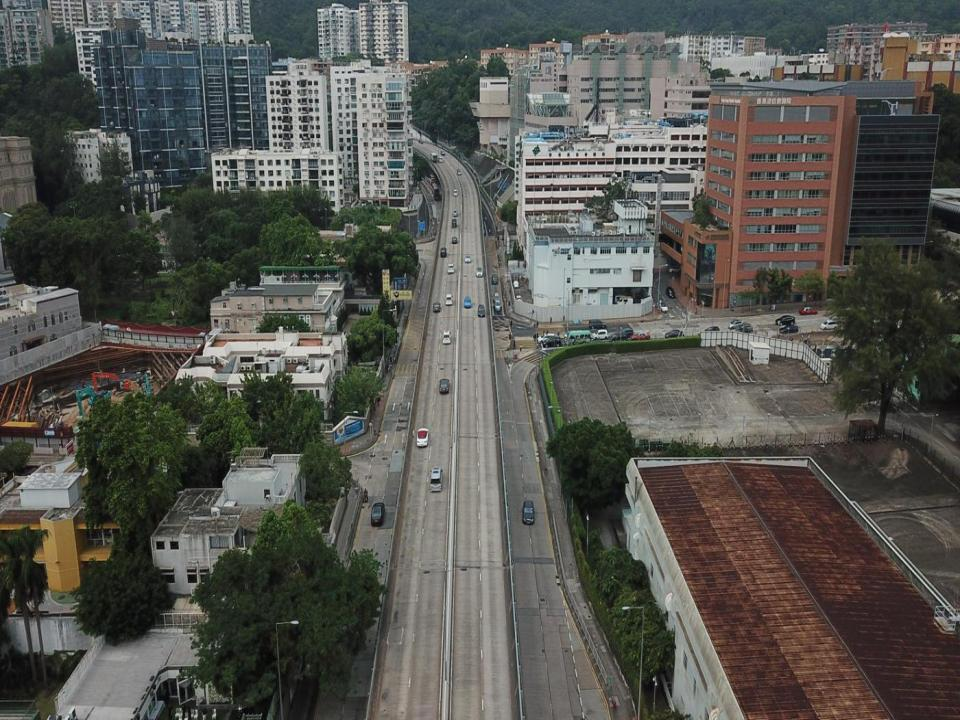bus: (566, 330, 591, 345), (432, 183, 440, 200), (427, 171, 436, 185), (430, 152, 437, 162)
car: (370, 502, 385, 526), (522, 500, 534, 524), (664, 330, 684, 340), (798, 305, 818, 315), (417, 428, 428, 446), (631, 331, 650, 341), (779, 324, 798, 334), (776, 316, 796, 325), (592, 329, 608, 340), (728, 319, 744, 329), (440, 378, 449, 392), (659, 302, 669, 312), (666, 287, 675, 298), (668, 265, 682, 272), (464, 295, 472, 307), (478, 304, 485, 317), (433, 302, 441, 312), (476, 267, 483, 277), (451, 237, 457, 244), (465, 255, 470, 262)
van: (429, 467, 443, 491), (564, 330, 584, 342), (614, 293, 630, 307), (609, 332, 627, 344), (616, 295, 633, 307), (543, 336, 561, 347), (734, 324, 753, 334), (820, 320, 839, 330), (537, 334, 555, 344), (588, 319, 606, 329), (618, 327, 633, 337), (704, 326, 719, 336), (442, 330, 452, 343), (445, 294, 453, 305), (493, 292, 500, 303), (494, 298, 500, 310), (447, 263, 455, 272), (515, 295, 522, 305), (440, 248, 447, 257), (492, 274, 498, 284), (453, 208, 458, 218), (452, 219, 458, 227), (513, 280, 519, 288), (438, 156, 443, 163), (456, 168, 460, 176), (454, 189, 458, 196), (440, 150, 445, 155)
